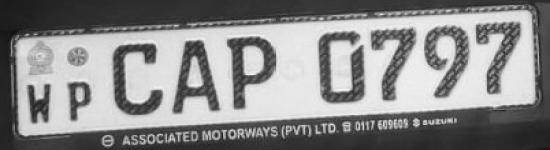0: (306, 24, 368, 105)
7: (472, 14, 527, 99), (369, 25, 418, 111)
9: (422, 18, 474, 102)
A: (168, 35, 224, 117)
C: (102, 38, 166, 118)
P: (225, 31, 278, 116), (63, 76, 99, 128)
W: (21, 78, 59, 127)
